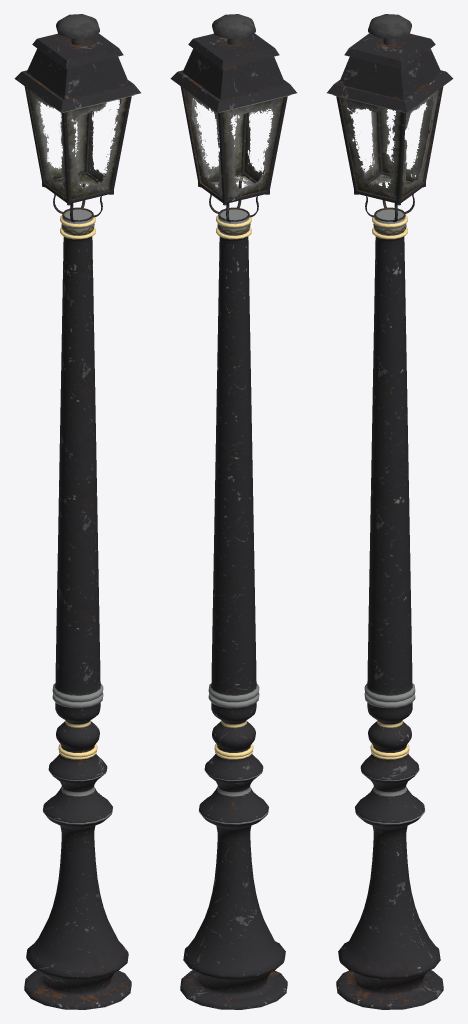
Rendered from lampara.fbx.
3 renders of one model, left to right at view 1: azimuth 30°, elevation 25°; view 2: azimuth 210°, elevation 25°; view 3: azimuth 330°, elevation 25°, orthographic.
Parts seen in each view (by area): view 1: Plane007; view 2: Plane007; view 3: Plane007.
Part boxes in pixels (x1,y1,x2,y2): Plane007: (14, 14, 140, 1009); Plane007: (170, 14, 296, 1009); Plane007: (327, 14, 453, 1009).
Bounding box in the file's own units: 51.08 × 502 × 51.08.
